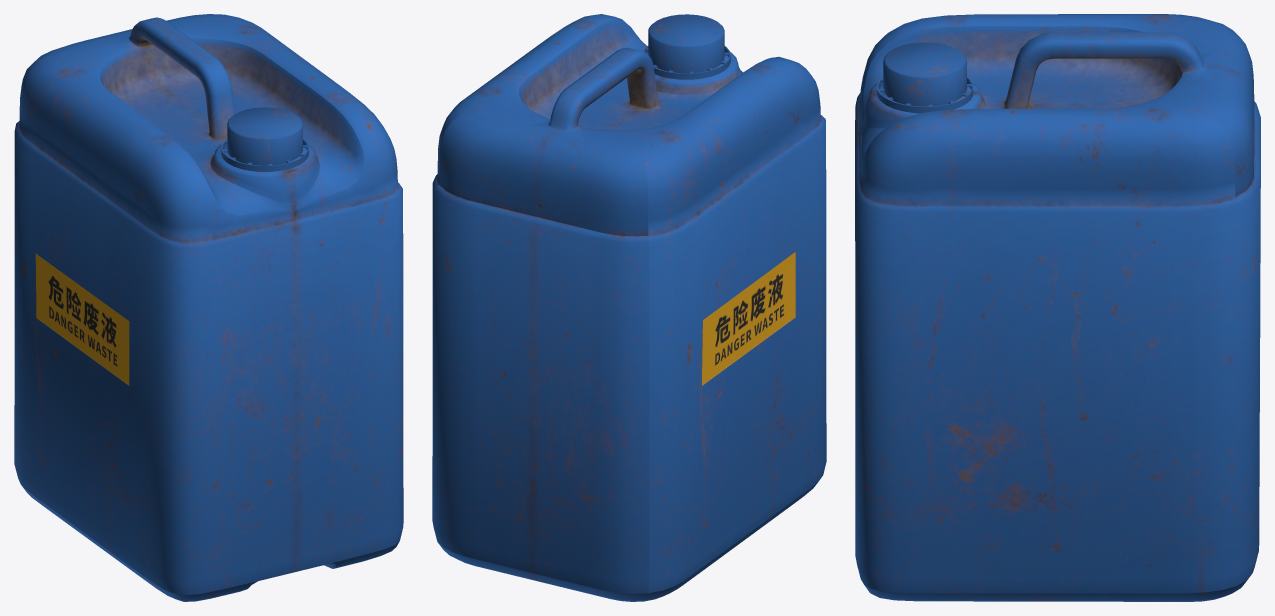
Rendered from SM_废液桶.FBX.
3 views of the same model, side by side, from view 1: azimuth 30°, elevation 25°; view 2: azimuth 150°, elevation 25°; view 3: azimuth 270°, elevation 25° (orthographic). The views are drawn at different scales.
Visible parts, largest first — view 1: SM_废液桶; view 2: SM_废液桶; view 3: SM_废液桶.
Boxes of the visible parts, x1,y1,x2,y2 form: SM_废液桶: [14, 14, 403, 601]; SM_废液桶: [432, 14, 826, 601]; SM_废液桶: [855, 14, 1260, 601].
Size of the model in its own units: 31.41 by 57.12 by 40.78.
